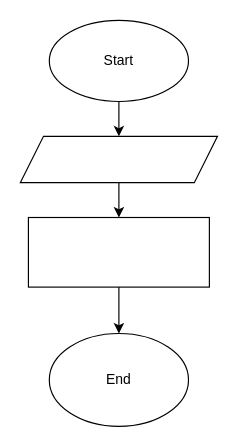
This 238x447 diagram has some shape labels left out. Here are the shapes that lost their labels. From the top down, the centre of each, then its label:
At point 118,159: "Input park data".
At point 118,251: "create a park instance".
